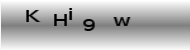9: (81, 18, 97, 31)
H: (52, 12, 69, 27)
K: (23, 8, 41, 24)
i: (67, 7, 74, 20)
w: (113, 16, 131, 28)
